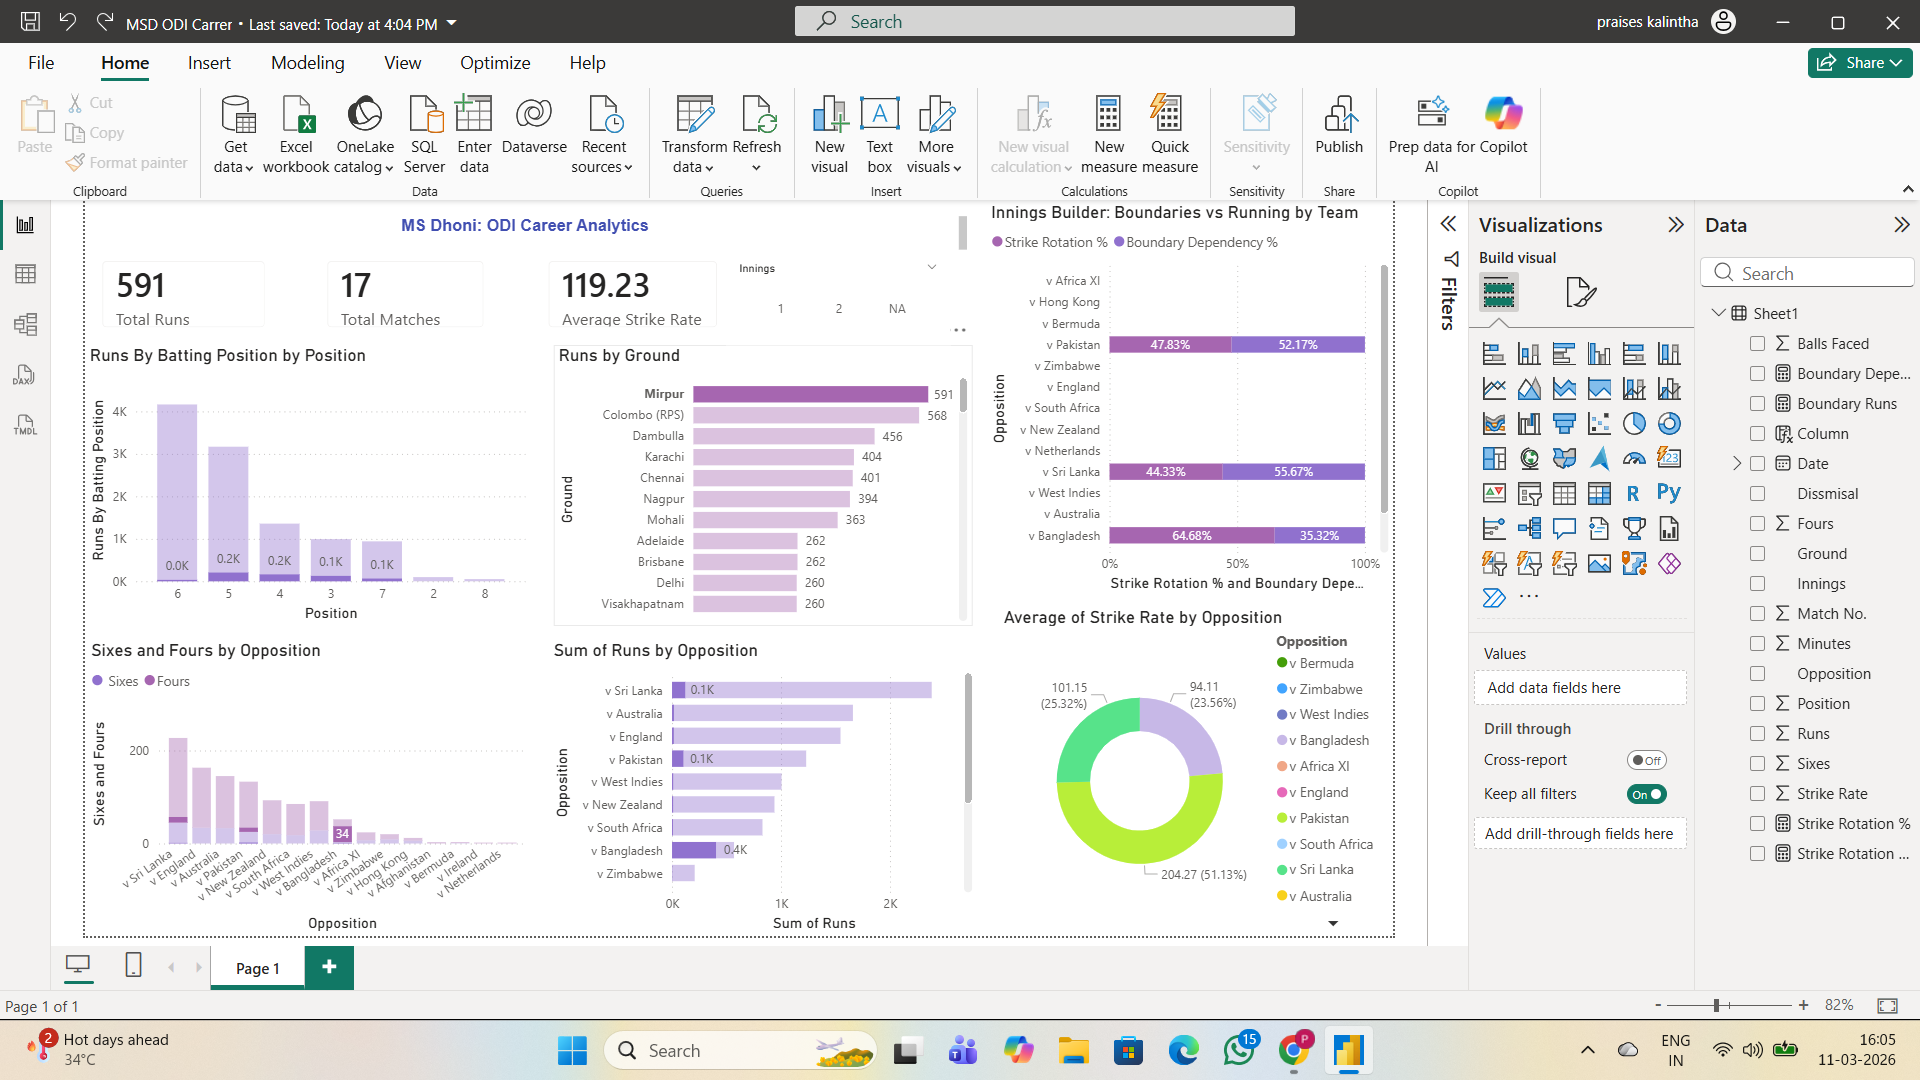

What the dashboard file says about the page in this screenshot:
{"tool":"powerbi","page":{"name":"Page 1","canvas":[1280,720],"ordinal":0},"visuals":[{"type":"columnChart","fields":{"Category":["Sheet1.Position"],"Y":["Sum(Sheet1.Runs)"]},"box":[0,141.8,436.6,275.1],"z":0},{"type":"columnChart","fields":{"Category":["Sheet1.Opposition"],"Y":["Sum(Sheet1.Sixes)","Sum(Sheet1.Fours)"]},"box":[1.2,430.4,435.3,289.8],"z":1000},{"type":"clusteredBarChart","fields":{"Y":["Sum(Sheet1.Runs)"],"Category":["Sheet1.Opposition"]},"box":[453.7,430.4,419.4,289.8],"z":2000},{"type":"donutChart","fields":{"Category":["Sheet1.Opposition"],"Y":["Avg(Sheet1.Strike Rate)"]},"box":[893.9,397.4,386.4,322.8],"z":3000},{"type":"cardVisual","fields":{"Data":["Sum(Sheet1.Runs)"]},"box":[0,42.8,193.2,99],"z":4000},{"type":"cardVisual","fields":{"Data":["CountNonNull(Sheet1.Match No.)"]},"box":[220.1,42.8,187.1,99],"z":5000},{"type":"cardVisual","fields":{"Data":["Avg(Sheet1.Strike Rate)"]},"box":[436.6,42.8,199.3,99],"z":6000},{"type":"barChart","fields":{"Category":["Sheet1.Ground"],"Y":["Sum(Sheet1.Runs)"]},"box":[458.6,141.8,409.6,275.1],"z":7000},{"type":"slicer","fields":{"Values":["Sheet1.Innings"]},"box":[627.3,55,218.9,86.8],"z":8000},{"type":"hundredPercentStackedBarChart","title":"Innings Builder: Boundaries vs Running by Team","fields":{"Category":["Sheet1.Opposition"],"Y":["Sheet1.Strike Rotation %","Sheet1.Boundary Dependency %"]},"box":[881.7,1.2,398.6,386.4],"z":9000},{"type":"textbox","box":[1.2,11,867,44],"z":10000}]}

Visuals, with their boxes on the page's 1280x720 design canvas (x1, y1, x2, y2). These are canvas units, not pixel positions in the 1920x1080 screenshot, which may show the page scaled, cropped or inside an application window:
columnChart - Sheet1.Position x Sum(Sheet1.Runs): (0, 142, 437, 417)
columnChart - Sheet1.Opposition x Sum(Sheet1.Sixes): (1, 430, 436, 720)
clusteredBarChart - Sum(Sheet1.Runs) x Sheet1.Opposition: (454, 430, 873, 720)
donutChart - Sheet1.Opposition x Avg(Sheet1.Strike Rate): (894, 397, 1280, 720)
cardVisual - Sum(Sheet1.Runs): (0, 43, 193, 142)
cardVisual - CountNonNull(Sheet1.Match No.): (220, 43, 407, 142)
cardVisual - Avg(Sheet1.Strike Rate): (437, 43, 636, 142)
barChart - Sheet1.Ground x Sum(Sheet1.Runs): (459, 142, 868, 417)
slicer - Sheet1.Innings: (627, 55, 846, 142)
"Innings Builder: Boundaries vs Running by Team" hundredPercentStackedBarChart: (882, 1, 1280, 388)
textbox: (1, 11, 868, 55)
